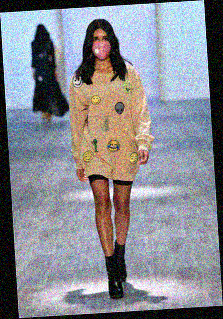with_mask: (91, 33, 113, 61)
